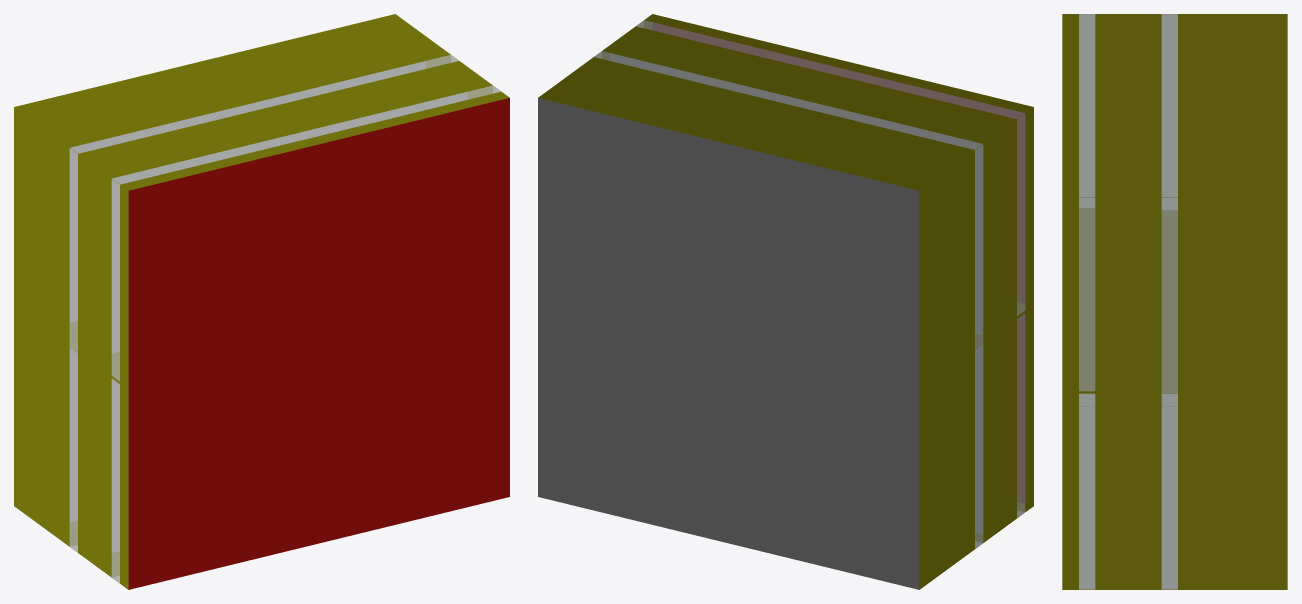
Rendered from idf.obj.
3 views of the same model, side by side, from view 1: azimuth 30°, elevation 25°; view 2: azimuth 150°, elevation 25°; view 3: azimuth 270°, elevation 25° (orthographic).
Size of the model in its own units: 17.59 by 17.59 by 9.14.
